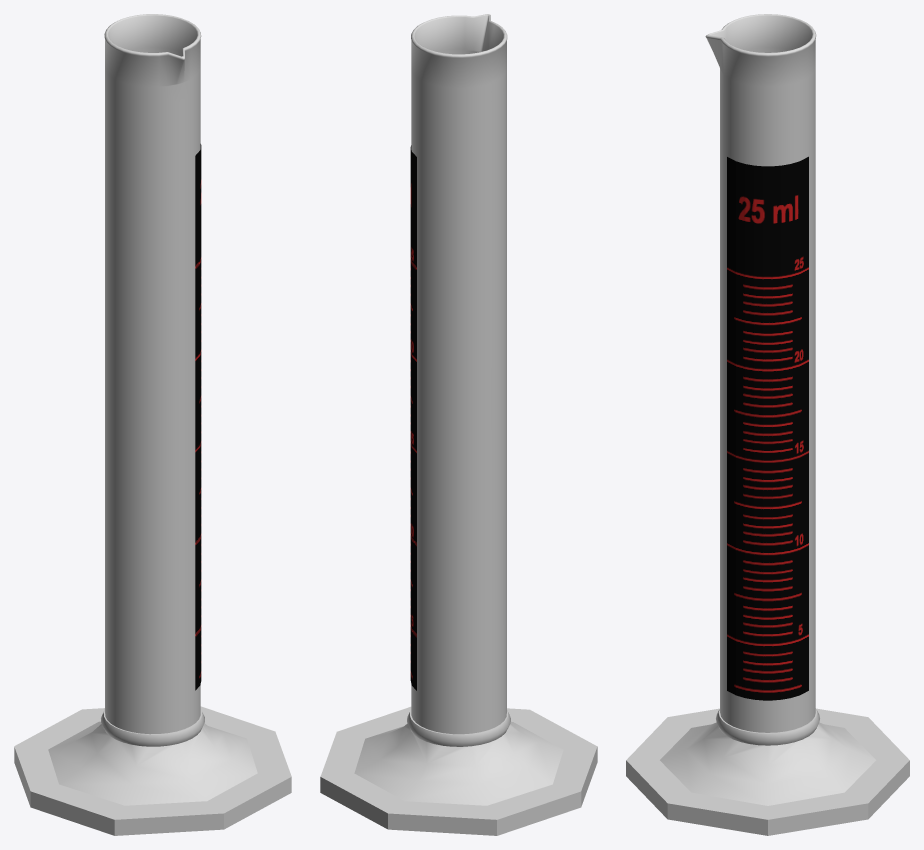
The model's file is alat_gelasUkur_25ml_syasya_01.fbx.
3 renders of one model, left to right at view 1: azimuth 30°, elevation 25°; view 2: azimuth 150°, elevation 25°; view 3: azimuth 270°, elevation 25°, orthographic.
Parts seen in each view (by area): view 1: gelasUkur_25ml; view 2: gelasUkur_25ml; view 3: gelasUkur_25ml.
Boxes of the visible parts, <box> form: gelasUkur_25ml: <box>14,14,291,835</box>; gelasUkur_25ml: <box>320,14,597,835</box>; gelasUkur_25ml: <box>626,14,909,835</box>.
Size of the model in its own units: 5.85 by 16.98 by 5.88.
2 materials, 1 textured.
